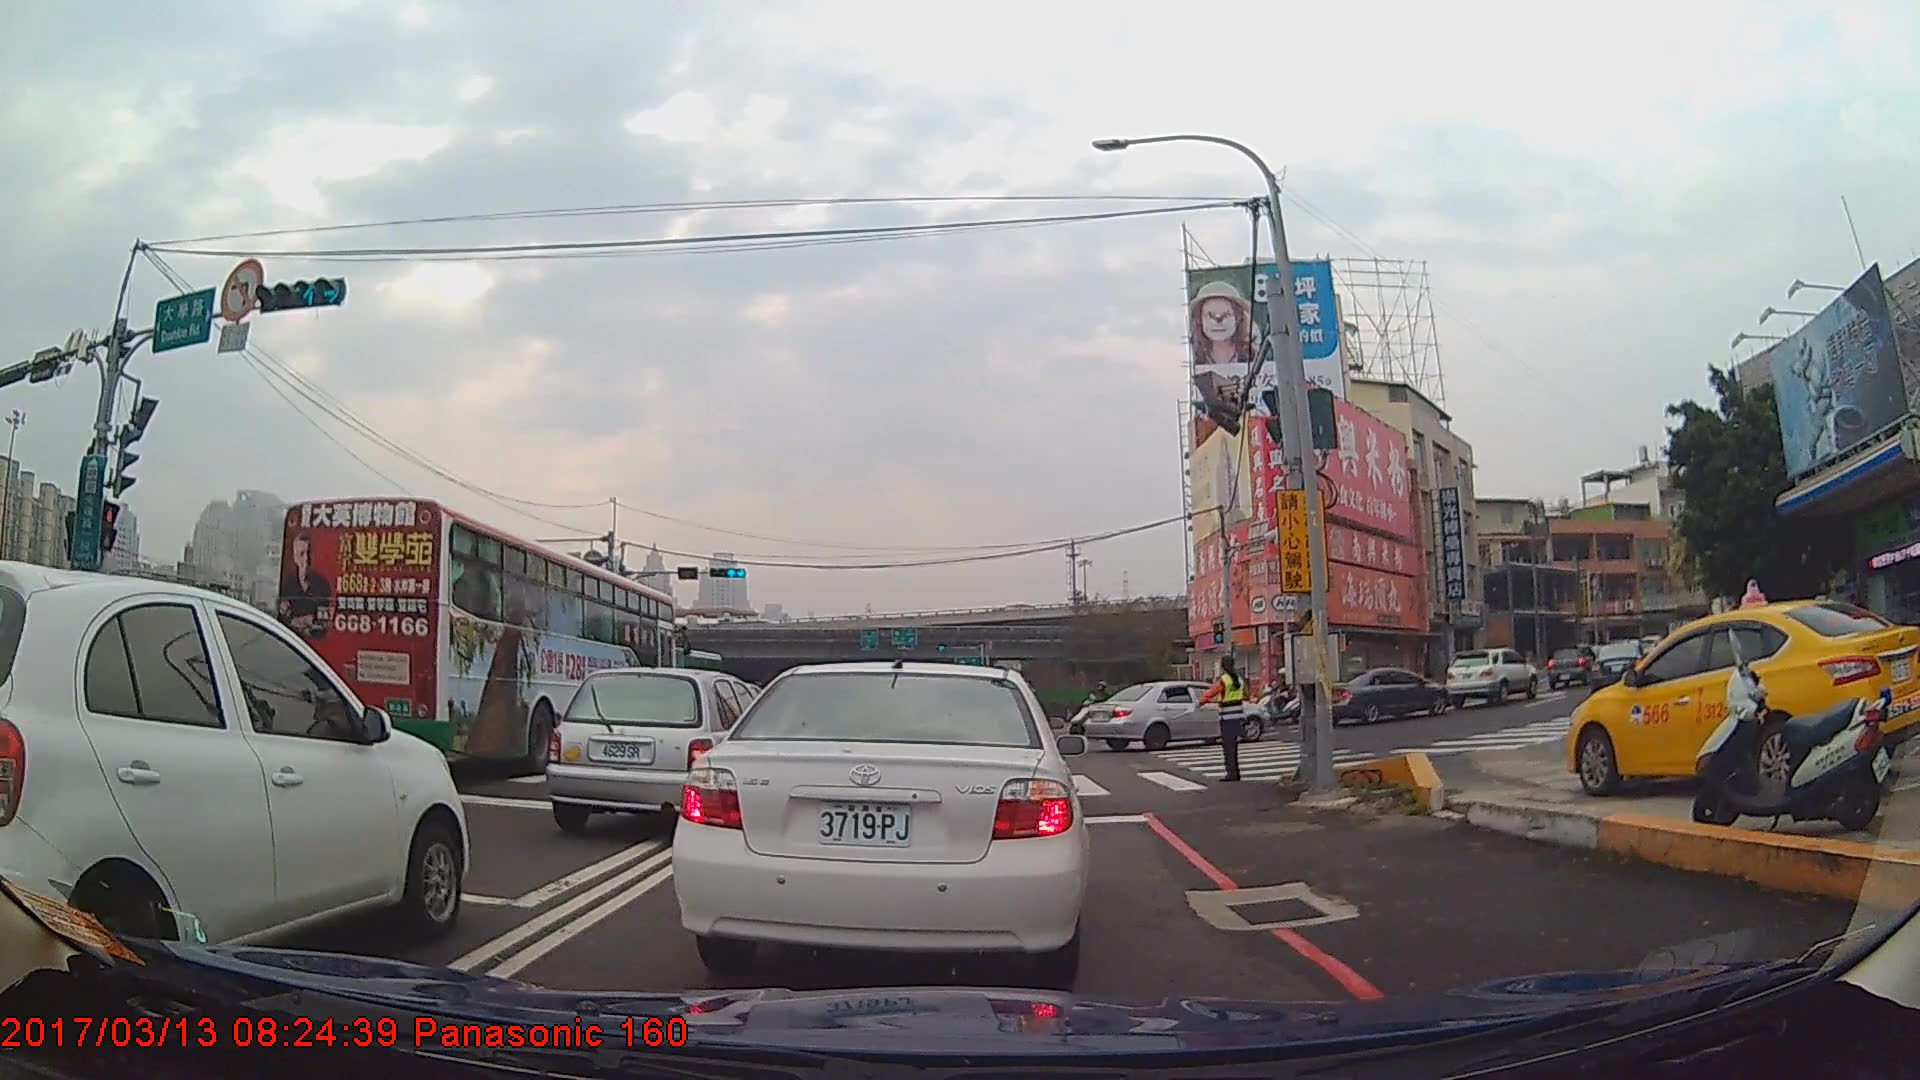pedestrian: (1208, 657, 1252, 785)
rider: (1072, 682, 1134, 738), (1253, 667, 1302, 725)
vehicle: (0, 558, 468, 1003), (671, 660, 1088, 986), (272, 497, 684, 780), (1562, 598, 1920, 797), (543, 666, 787, 838), (1080, 680, 1265, 751), (1318, 665, 1447, 725), (1445, 646, 1538, 708), (1588, 638, 1654, 699), (1547, 643, 1600, 689)
